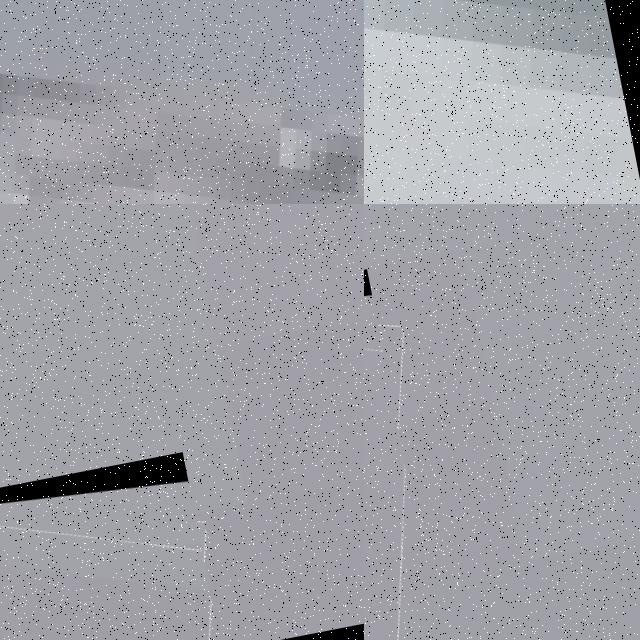drone: (0, 0, 364, 204), (364, 0, 640, 204), (0, 452, 221, 640), (364, 269, 454, 640)
